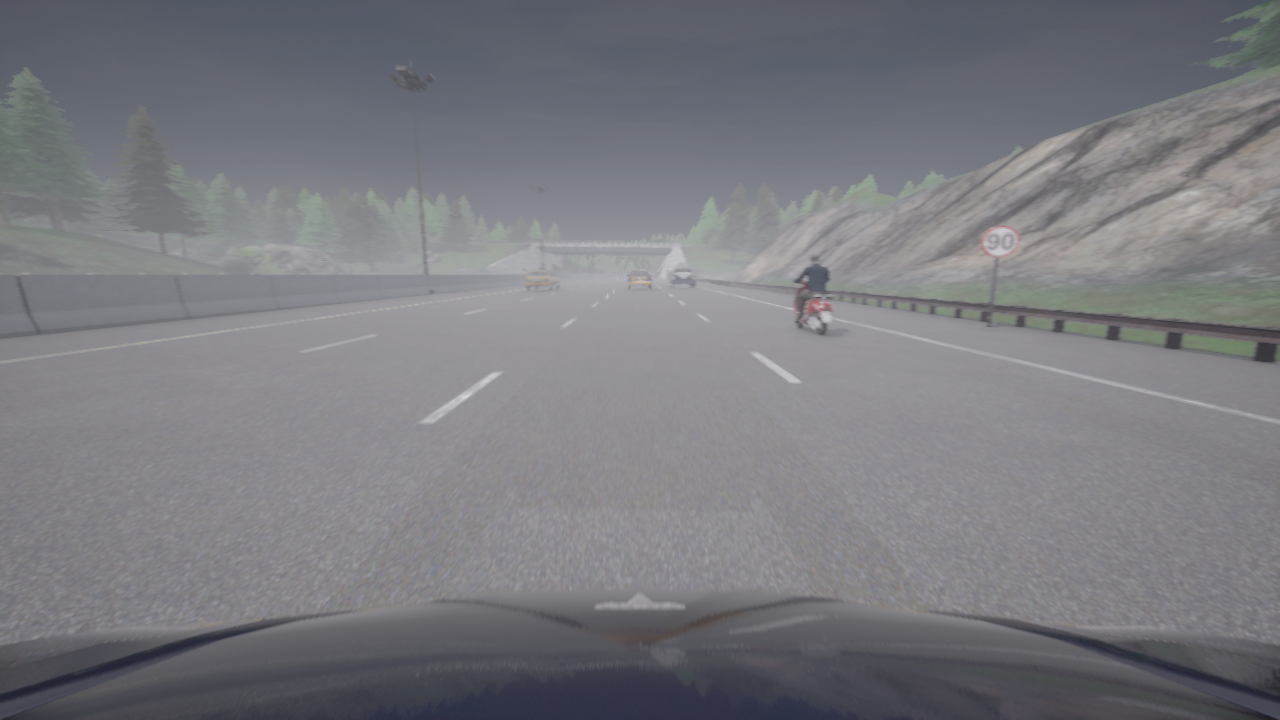cyclist: (0, 588, 1279, 719), (789, 272, 833, 335), (524, 268, 559, 290), (668, 268, 696, 288), (627, 269, 651, 289)
